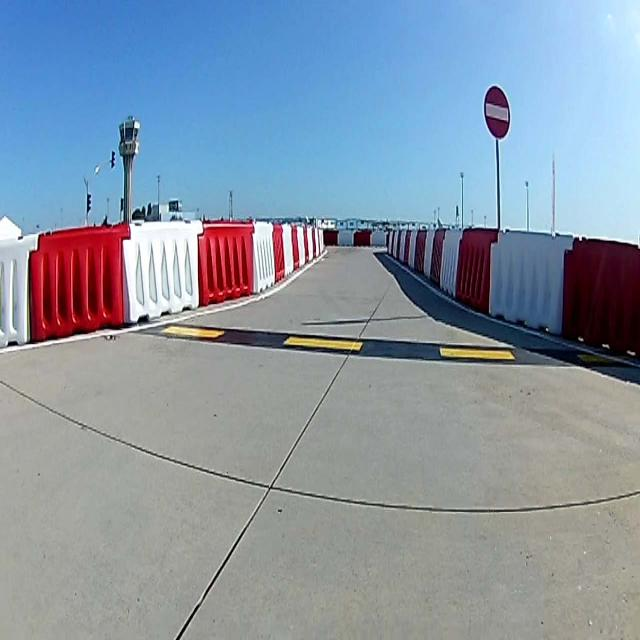girisyok: (481, 84, 513, 138)
